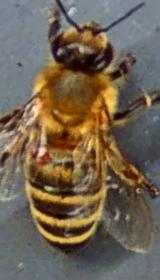varroa_mite: (22, 143, 58, 176)
